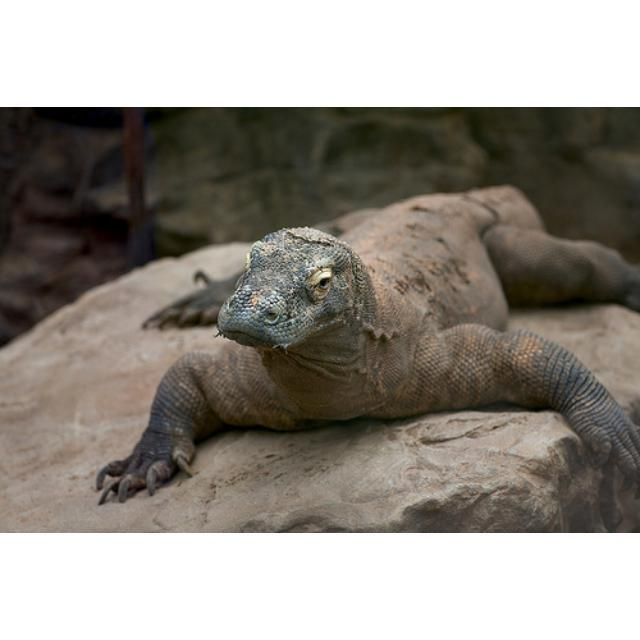KomodoDragon: (93, 184, 634, 518)
